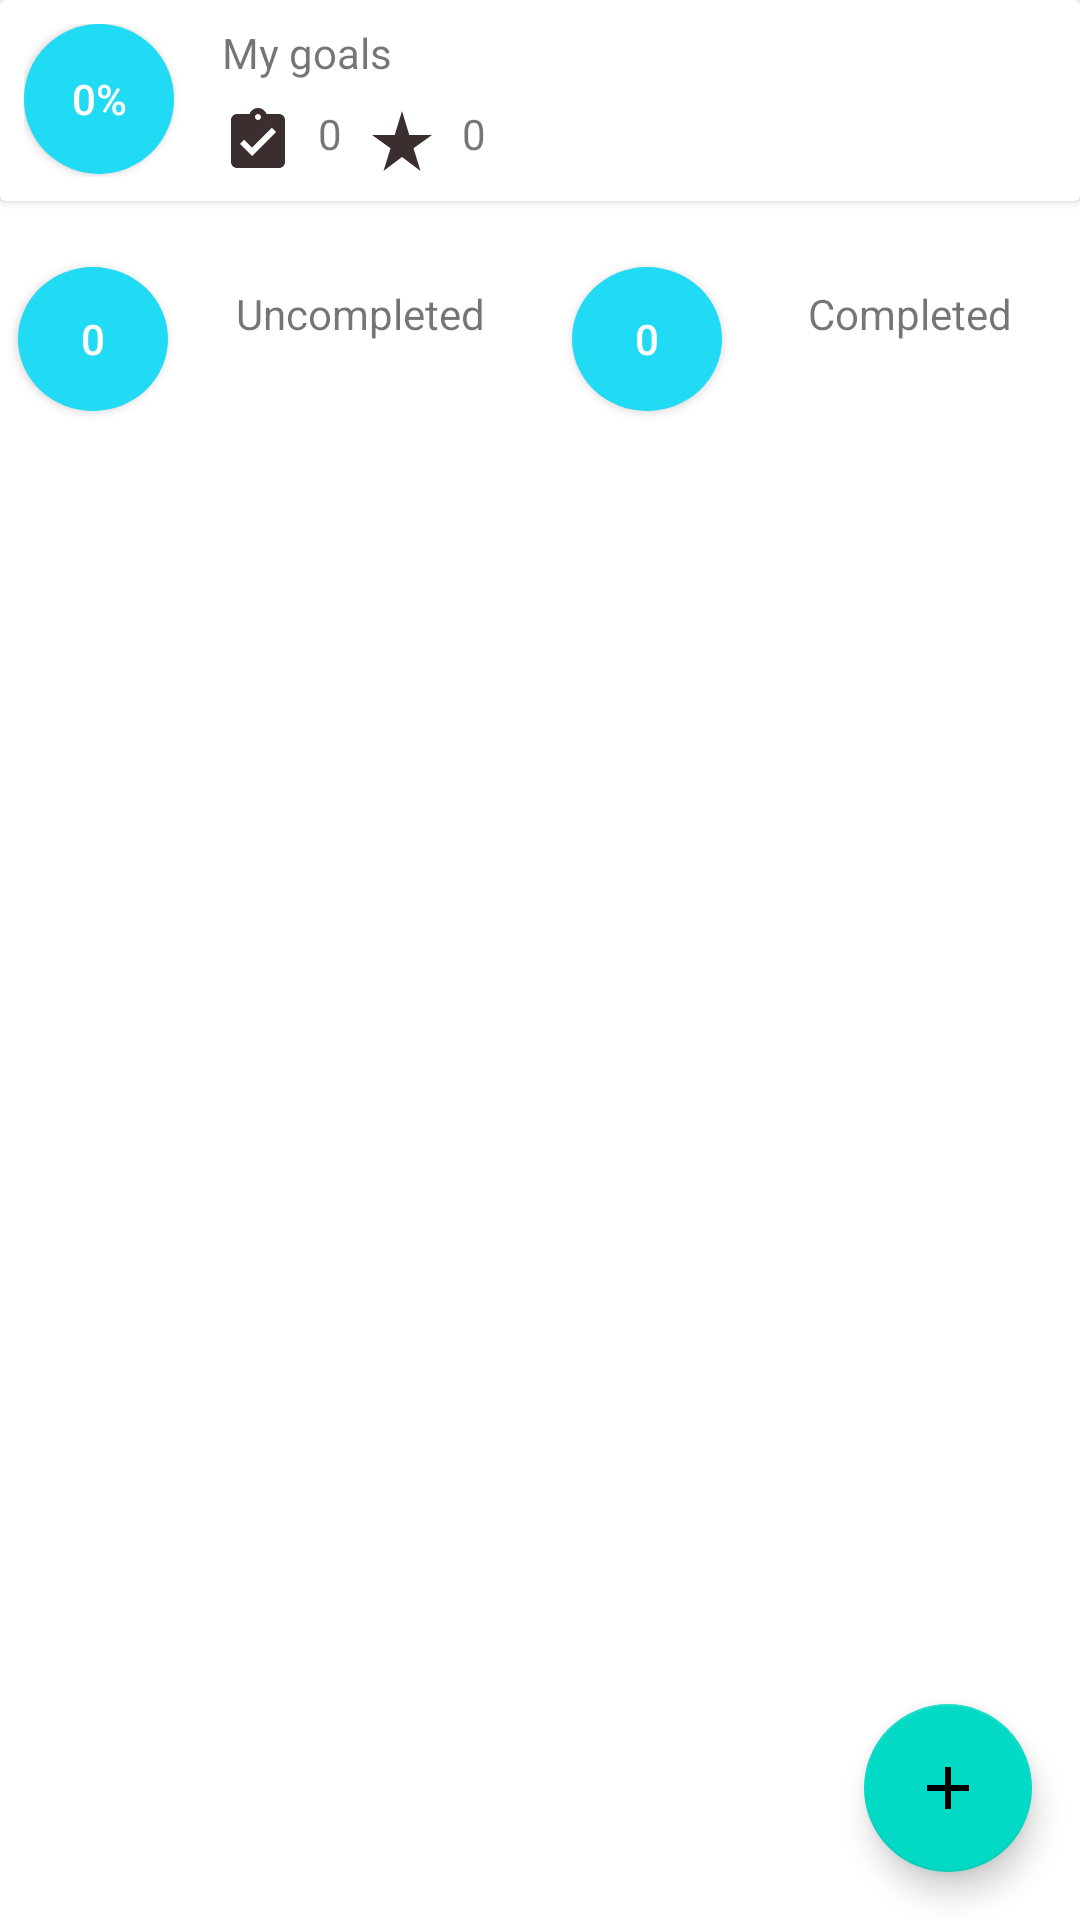

Icons on this 1080 × 1920 Android screen, each with the point to tap as [x,y]:
completed task: [258,138]
plus: [948,1788]
